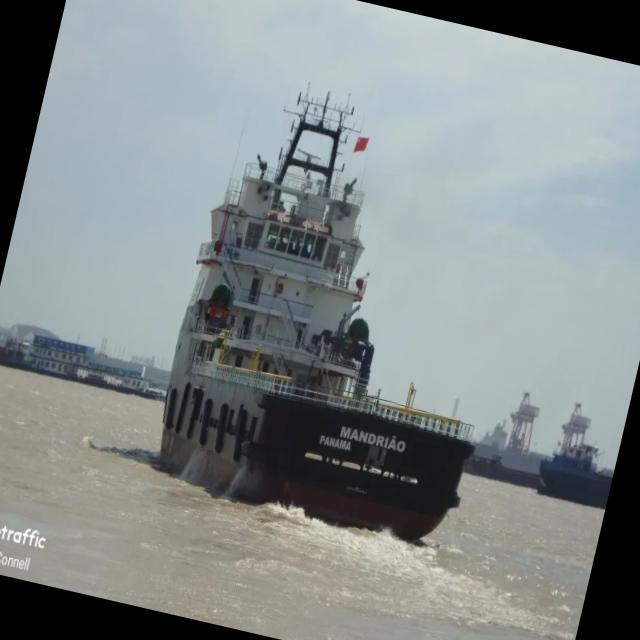Offshore: (159, 90, 473, 539)
